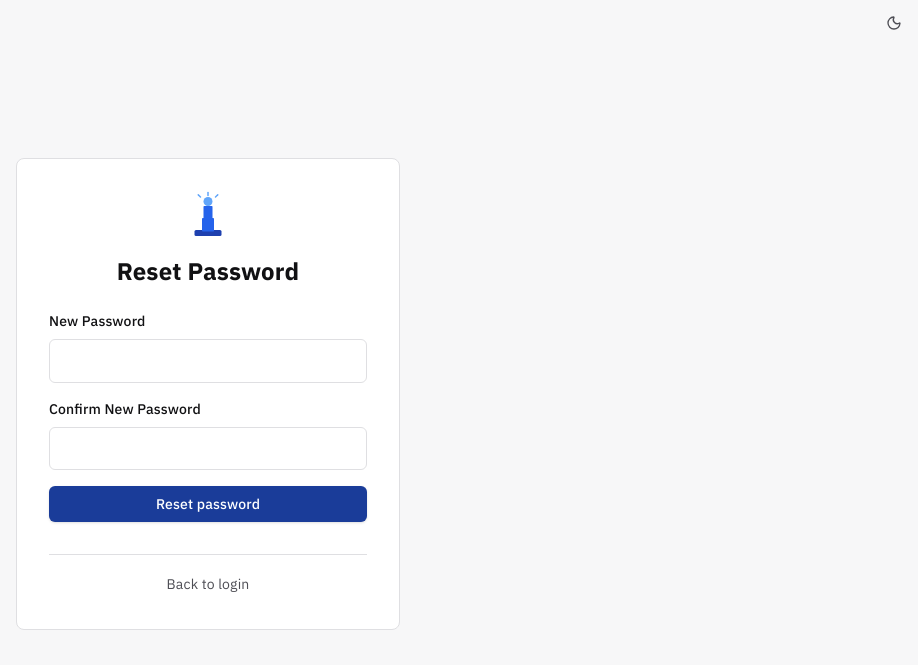
Scenario: ResetPassword › should display error toast on failed reset request
Type "password123" into the password field labelled "New Password".
click(208, 361); type("password123")  # box [49,339,367,383]
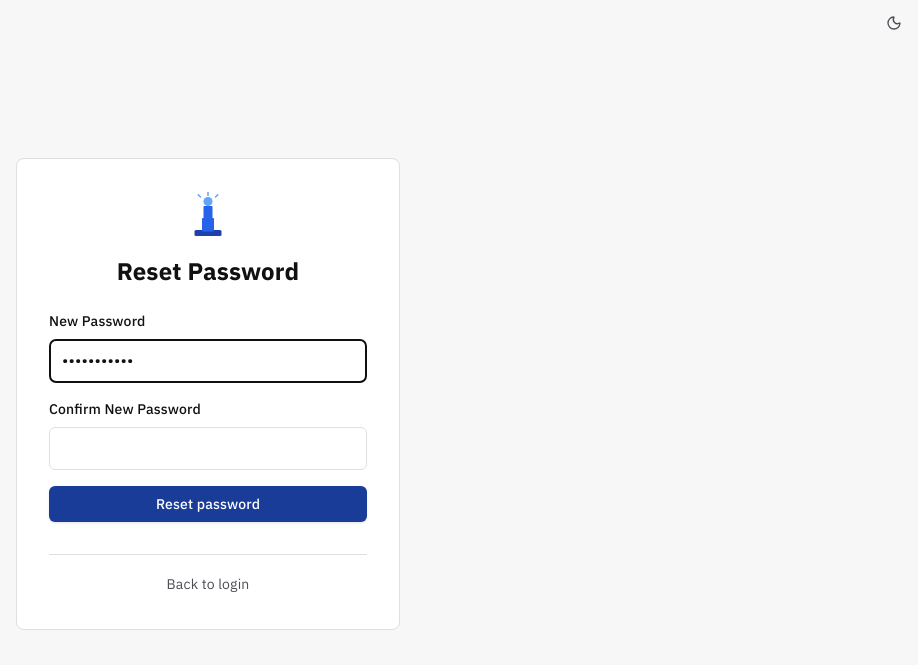
Type "password123" into the password field labelled "Confirm New Password".
click(208, 448); type("password123")  # box [49,427,367,470]
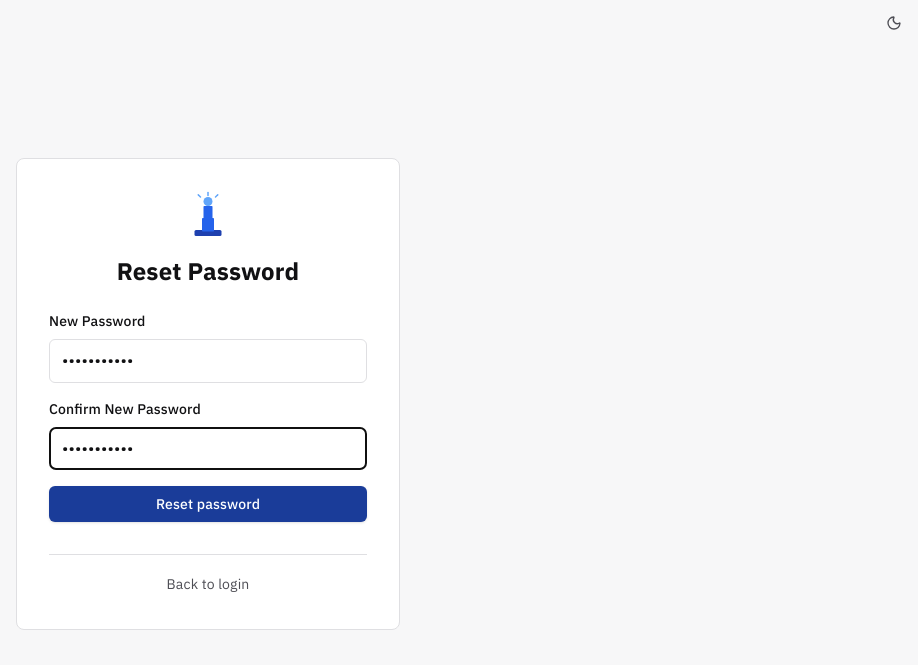
Click the button "Reset password".
click(208, 504)  # box [49,486,367,522]
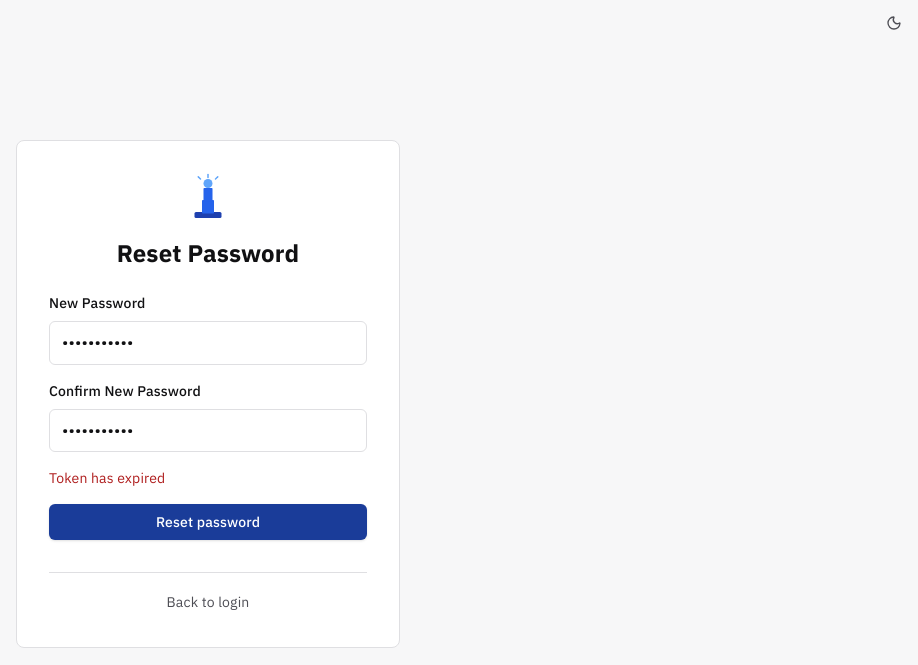
Result: the text "Token has expired" is shown at [49,469,165,487]
